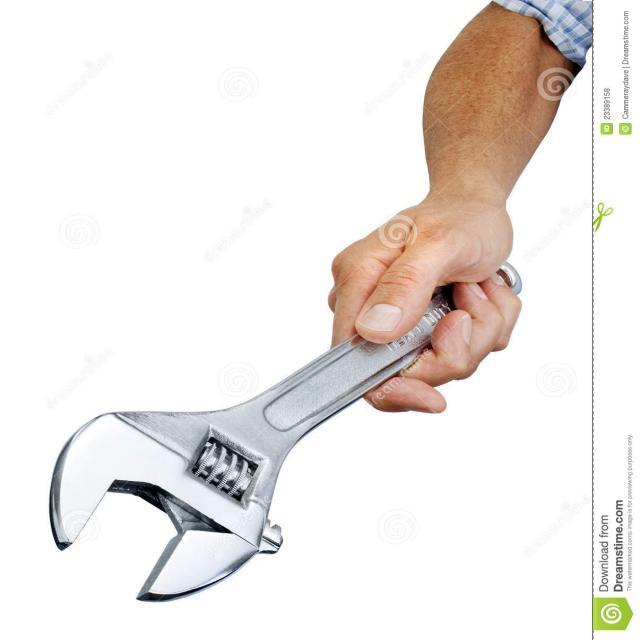wrench: (44, 260, 522, 604)
